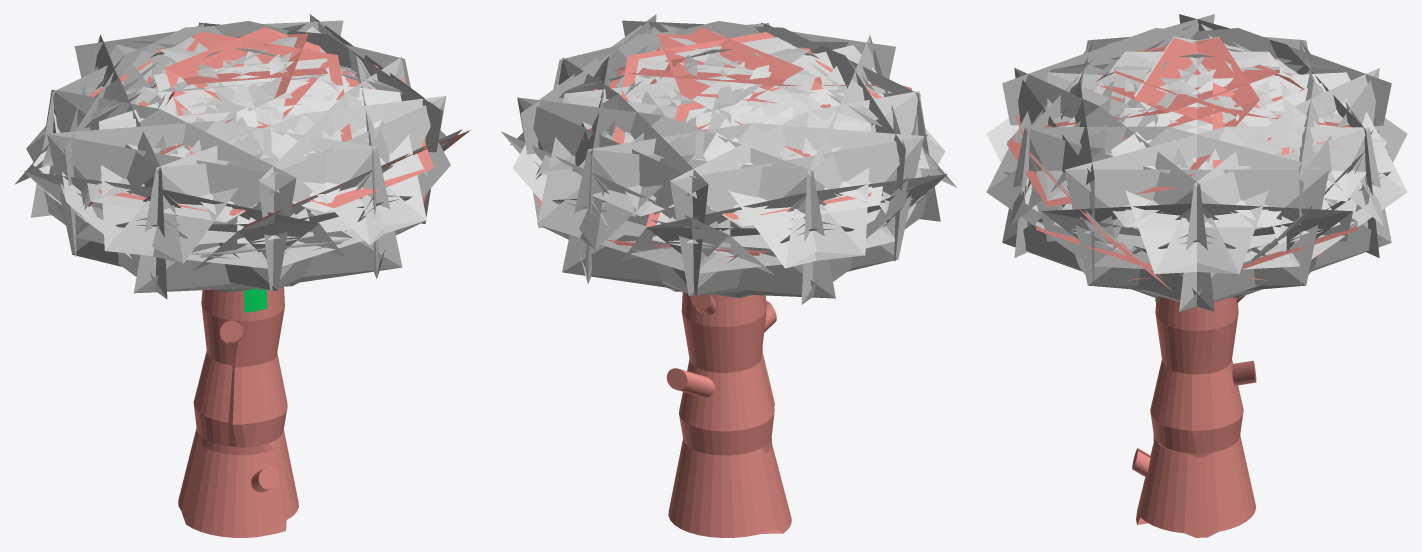
File: OneTreeAnimFINAL2 1.fbx
The picture shows the model from 3 angles, left to right: view 1: azimuth 30°, elevation 25°; view 2: azimuth 150°, elevation 25°; view 3: azimuth 270°, elevation 25°; orthographic projection. The views are drawn at different scales.
Parts seen in each view (by area): view 1: Cylinder.001, Cylinder; view 2: Cylinder.001, Cylinder; view 3: Cylinder.001, Cylinder.
Boxes of the visible parts, x1,y1,x2,y2 form: Cylinder.001: (15, 14, 462, 299); Cylinder: (50, 27, 470, 537); Cylinder.001: (501, 14, 956, 304); Cylinder: (536, 27, 920, 537); Cylinder.001: (986, 14, 1407, 311); Cylinder: (1006, 37, 1390, 537).
Size of the model in its own units: 1028 by 1151 by 976.
